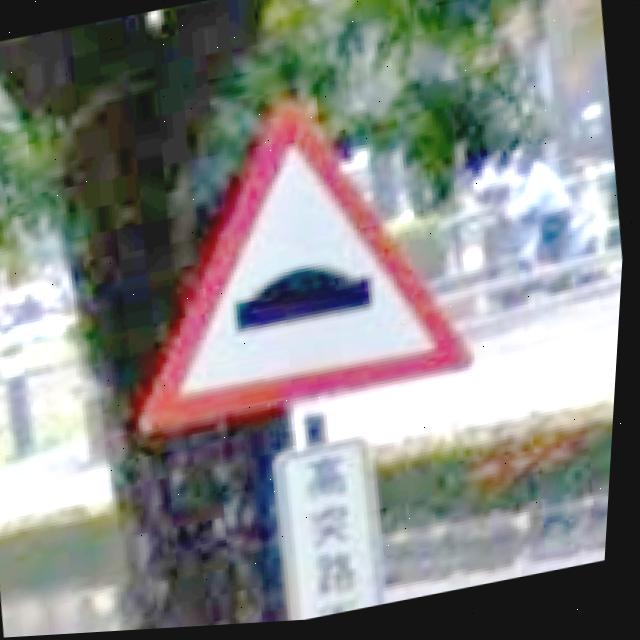hump: (149, 108, 480, 430)
